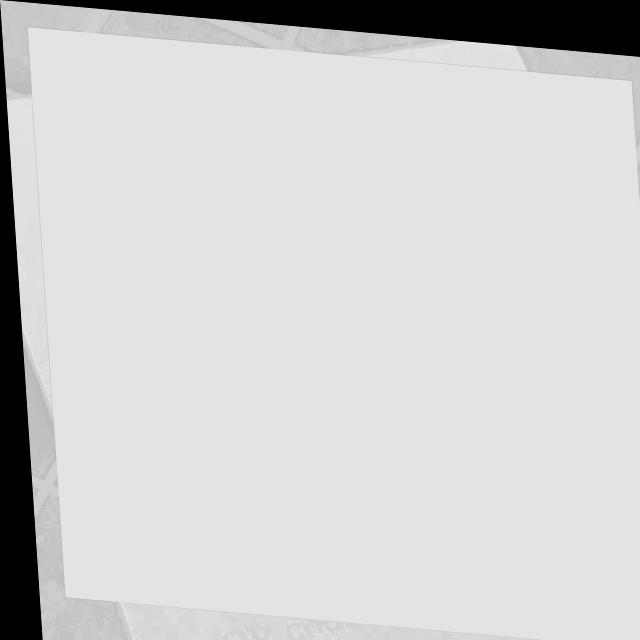qr_code: (27, 27, 640, 639)
